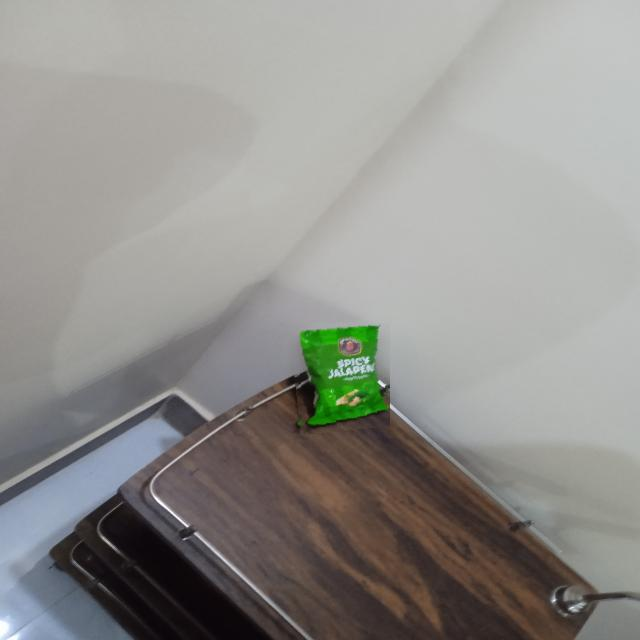Plastic: (289, 323, 390, 435)
